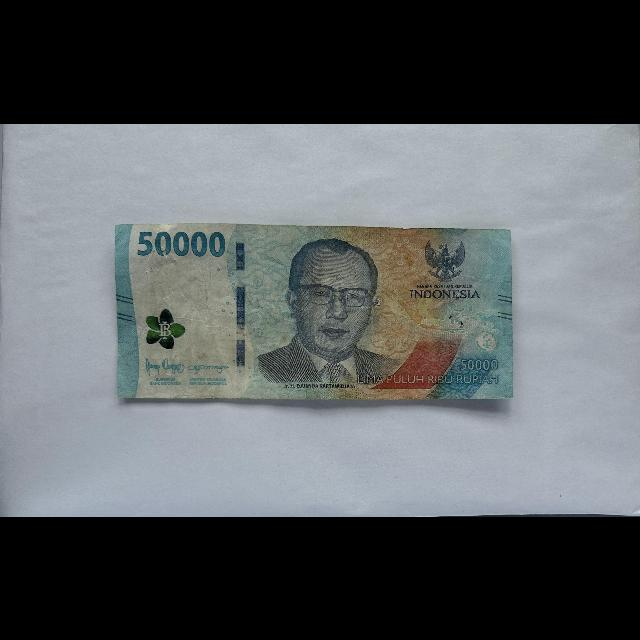Palsu-50k: (113, 220, 515, 400)
Tinta-Palsu-50k: (146, 308, 186, 349)
